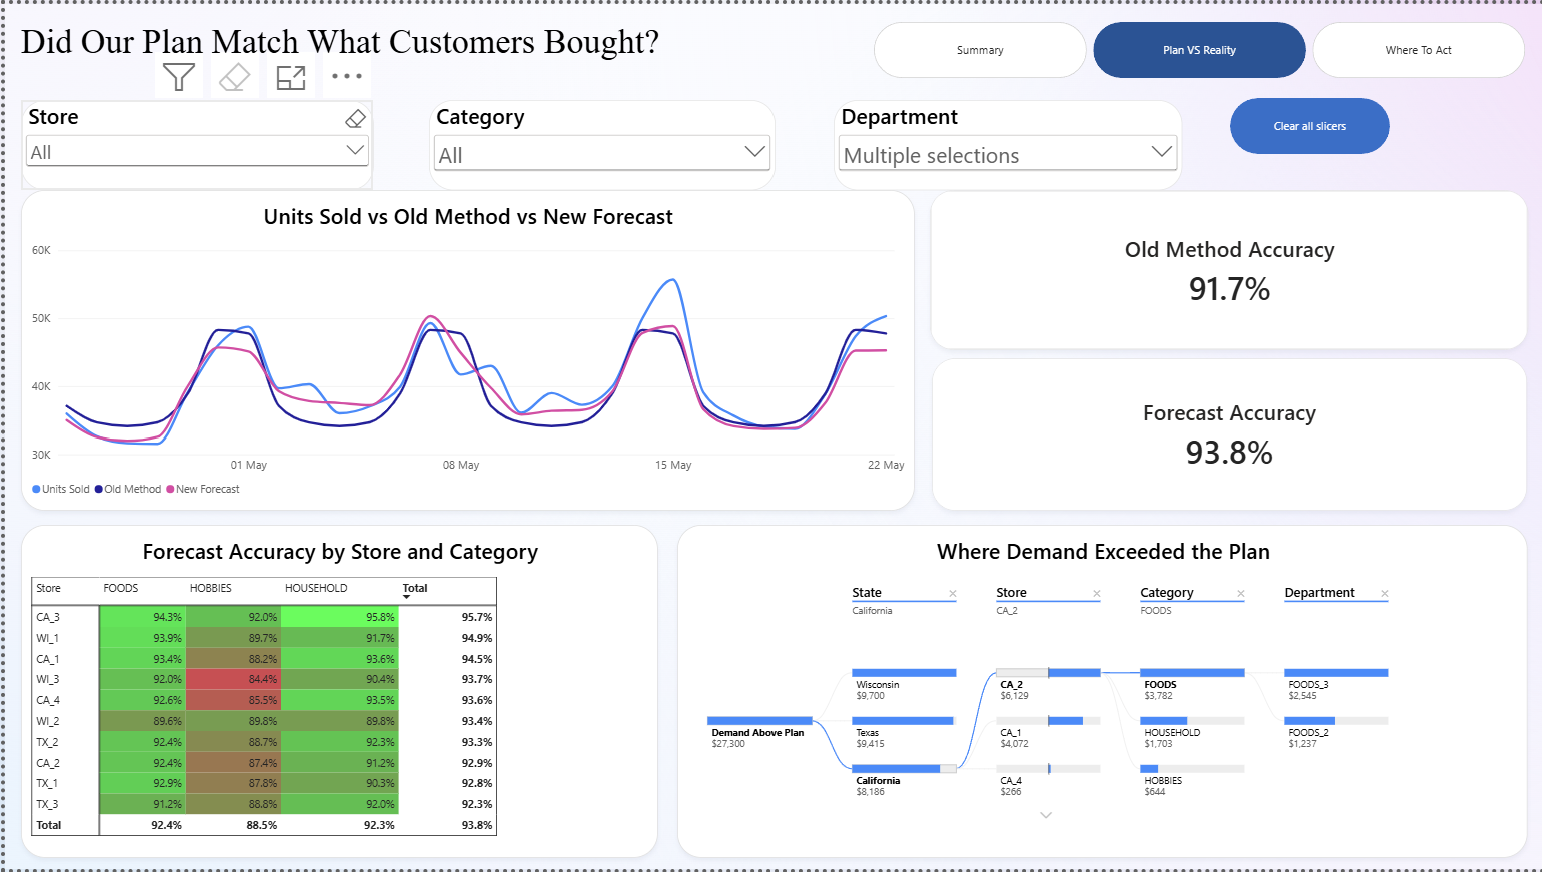

This screenshot's page, from the dashboard's own definition file:
{"tool":"powerbi","page":{"name":"Plan VS Reality","canvas":[1920,1080],"ordinal":1},"visuals":[{"type":"slicer","fields":{"Values":["Stores.store_id"]},"box":[19.8,118.8,441.1,113.1],"z":0},{"type":"slicer","fields":{"Values":["Categories.cat_id"]},"box":[528.8,118.8,432.6,113.1],"z":1000},{"type":"slicer","fields":{"Values":["forecast_daily.dept_id"]},"box":[1034.9,118.8,435.5,113.1],"z":2000},{"type":"lineChart","title":"Units Sold vs Old Method vs New Forecast","fields":{"Category":["forecast_daily.date"],"Y":["forecast_daily.Actual Units","forecast_daily.Forecast Baseline","forecast_daily.Forecast LGBM"]},"box":[20,232,1116,400],"z":4000},{"type":"cardVisual","fields":{"Data":["forecast_daily.Forecast Accuracy %"]},"box":[1158,442,744,190],"z":5000},{"type":"cardVisual","fields":{"Data":["forecast_daily.Old Method Accuracy %"]},"box":[1154,232,748,200],"z":6000},{"type":"pivotTable","title":" Forecast Accuracy by Store and Category","fields":{"Columns":["Categories.cat_id"],"Rows":["Stores.store_id"],"Values":["forecast_daily.Forecast Accuracy %"]},"box":[20,650,796,416],"z":7000},{"type":"decompositionTreeVisual","title":"Where Demand Exceeded the Plan","fields":{"Analyze":["forecast_daily.Demand Above Plan"],"ExplainBy":["Stores.State Name","Stores.store_id","Categories.cat_id","forecast_daily.dept_id"]},"box":[840,650,1062,416],"z":8000},{"type":"actionButton","box":[1530,118,200,70],"z":8002},{"type":"pageNavigator","box":[1085,22.5,815,70],"z":8003},{"type":"textbox","box":[20,22,1046,70],"z":8004}]}

Visuals, with their boxes in screenshot pixels (x1, y1, x2, y2), scaled from the page's 1920x1080 canvas onto the 1542x872 screenshot:
slicer - Stores.store_id: detection(16, 96, 370, 187)
slicer - Categories.cat_id: detection(425, 96, 772, 187)
slicer - forecast_daily.dept_id: detection(831, 96, 1181, 187)
"Units Sold vs Old Method vs New Forecast" lineChart: detection(16, 187, 912, 510)
cardVisual - forecast_daily.Forecast Accuracy %: detection(930, 357, 1528, 510)
cardVisual - forecast_daily.Old Method Accuracy %: detection(927, 187, 1528, 349)
" Forecast Accuracy by Store and Category" pivotTable: detection(16, 525, 655, 861)
"Where Demand Exceeded the Plan" decompositionTreeVisual: detection(675, 525, 1528, 861)
actionButton: detection(1229, 95, 1389, 152)
pageNavigator: detection(871, 18, 1526, 75)
textbox: detection(16, 18, 856, 74)
